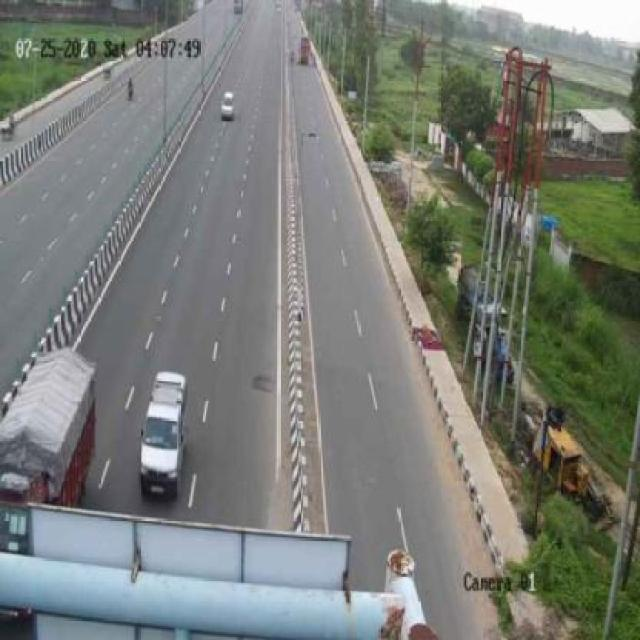car: (136, 366, 196, 503), (215, 83, 243, 123)
